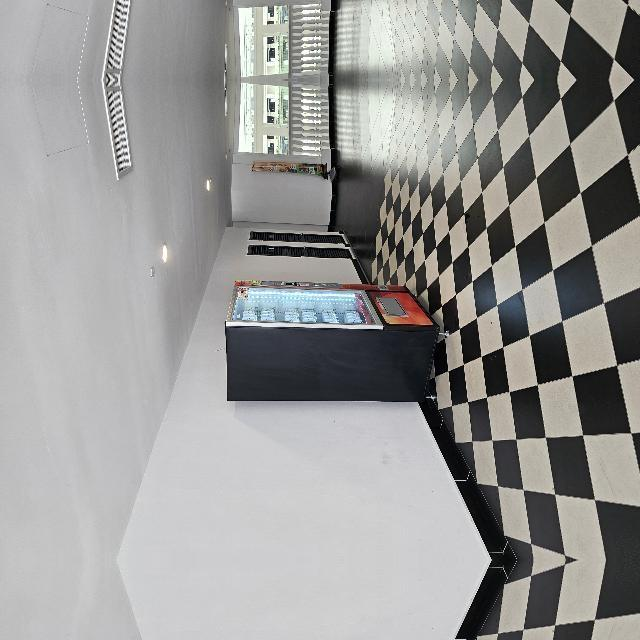obstacle: (156, 304, 282, 530), (156, 589, 282, 640), (382, 327, 396, 415)
